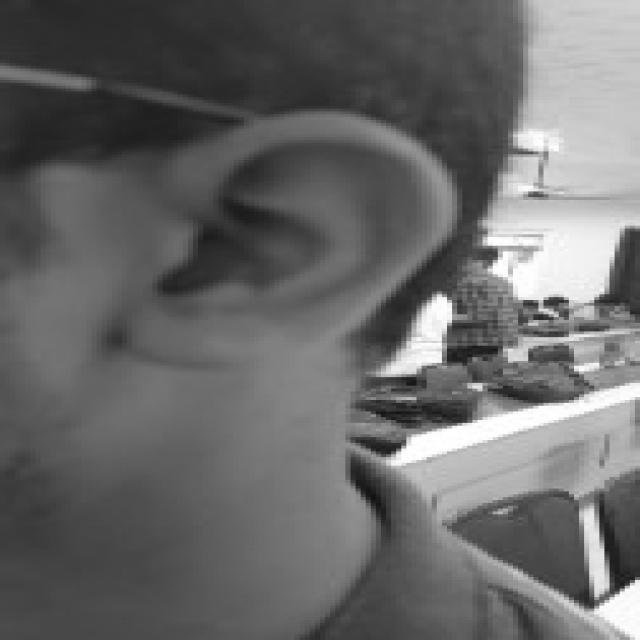ear: (122, 111, 442, 360)
